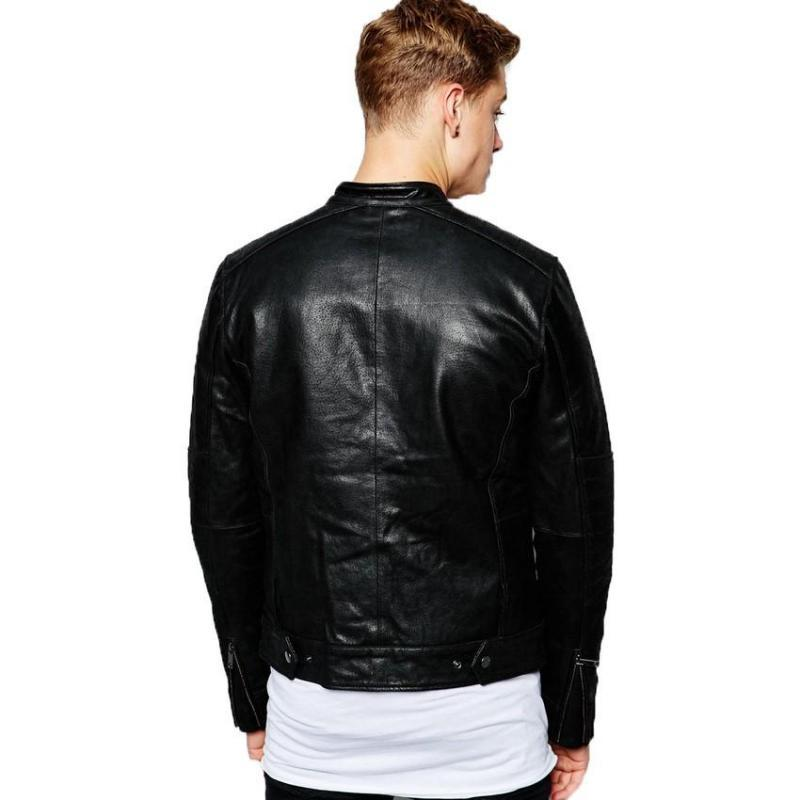short sleeve shirt: (184, 178, 616, 752), (258, 675, 552, 798)
